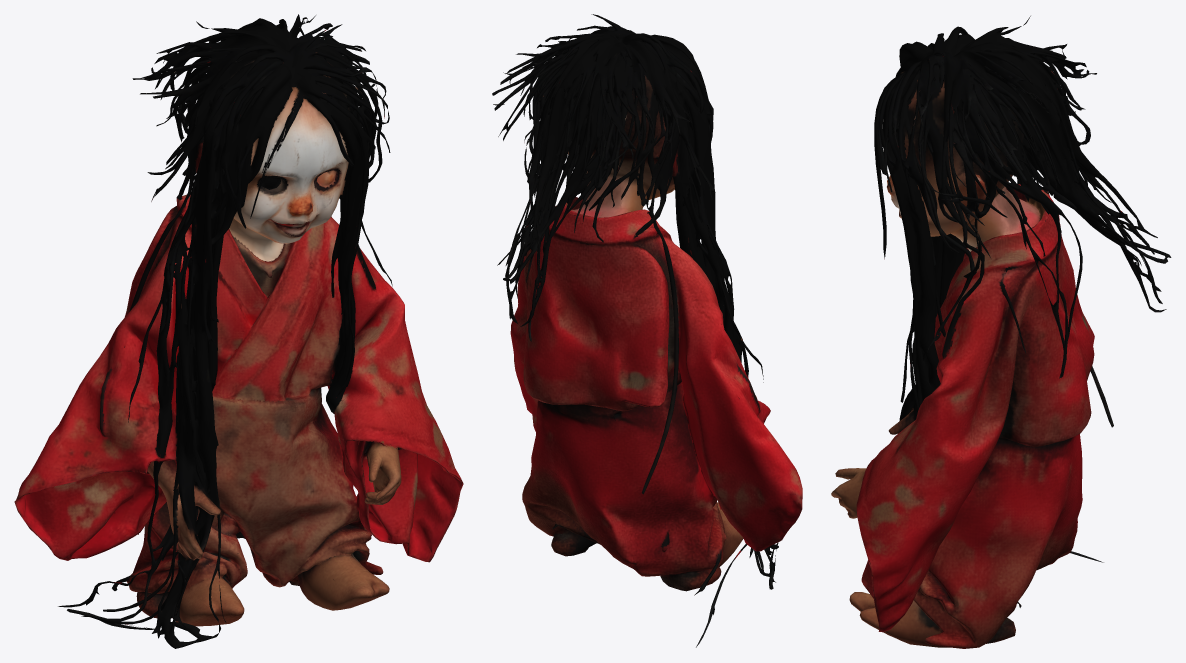
Rendered from doll.glb.
3 renders of one model, left to right at view 1: azimuth 30°, elevation 25°; view 2: azimuth 150°, elevation 25°; view 3: azimuth 270°, elevation 25°, orthographic. The views are drawn at different scales.
Bounding box in the file's own units: 0.5952 × 0.8984 × 0.46.
Materials: 1 (1 with a texture image).
